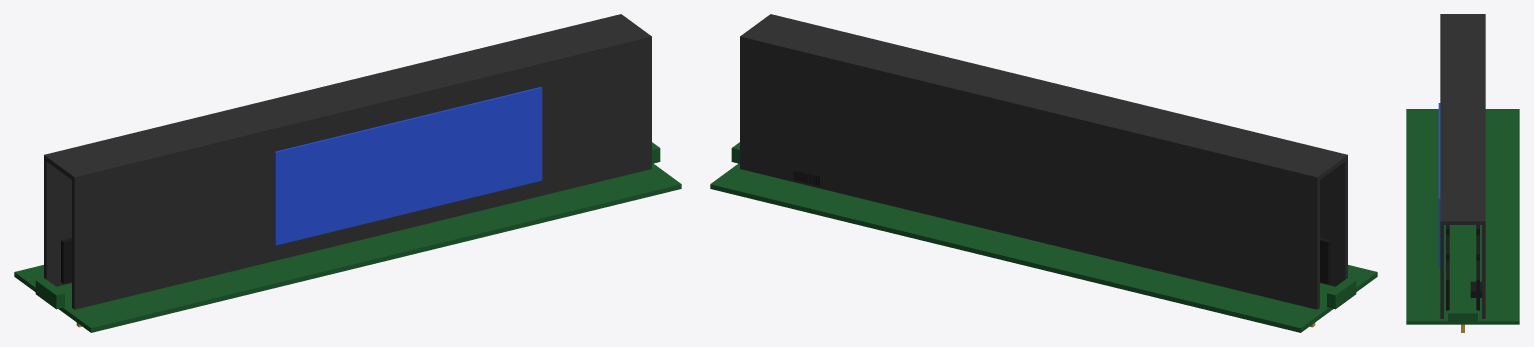
The model's file is ram.glb.
3 renders of one model, left to right at view 1: azimuth 30°, elevation 25°; view 2: azimuth 150°, elevation 25°; view 3: azimuth 270°, elevation 25°, orthographic. The views are drawn at different scales.
Parts seen in each view (by area): view 1: Mesh_HS_Front, Mesh_Label, Mesh_HS_Top, Mesh_PCB, Mesh_HS_Back, Mesh_Tab_L, Mesh_ChipB_0; view 2: Mesh_HS_Back, Mesh_HS_Top, Mesh_PCB, Mesh_HS_Front, Mesh_Tab_L, Mesh_ChipF_0; view 3: Mesh_PCB, Mesh_HS_Top, Mesh_Label, Mesh_Tab_R, Mesh_HS_Front, Mesh_HS_Back, Mesh_ChipF_7, Mesh_ChipB_7, Mesh_SPD, Mesh_ChipF_6, Mesh_ChipB_6.
Part boxes in pixels (x1,y1,x2,y2): Mesh_HS_Front: (72, 41, 651, 309); Mesh_Label: (274, 87, 542, 245); Mesh_HS_Top: (44, 14, 651, 181); Mesh_PCB: (14, 163, 681, 332); Mesh_HS_Back: (44, 160, 71, 286); Mesh_Tab_L: (35, 278, 64, 309); Mesh_ChipB_0: (61, 238, 71, 283); Mesh_HS_Back: (740, 41, 1319, 309); Mesh_HS_Top: (740, 14, 1347, 181); Mesh_PCB: (710, 163, 1377, 332); Mesh_HS_Front: (1320, 160, 1347, 286); Mesh_Tab_L: (1327, 278, 1356, 309); Mesh_ChipF_0: (1320, 238, 1330, 283); Mesh_PCB: (1406, 109, 1519, 324); Mesh_HS_Top: (1440, 14, 1485, 224); Mesh_Label: (1438, 103, 1440, 266); Mesh_Tab_R: (1448, 310, 1477, 323); Mesh_HS_Front: (1440, 225, 1443, 318); Mesh_HS_Back: (1482, 225, 1485, 318); Mesh_ChipF_7: (1446, 260, 1449, 310); Mesh_ChipB_7: (1476, 260, 1479, 310); Mesh_SPD: (1470, 281, 1481, 297); Mesh_ChipF_6: (1446, 235, 1449, 260); Mesh_ChipB_6: (1476, 235, 1479, 260).
Bounding box in the file's own units: 0.136 × 0.0365 × 0.03.
